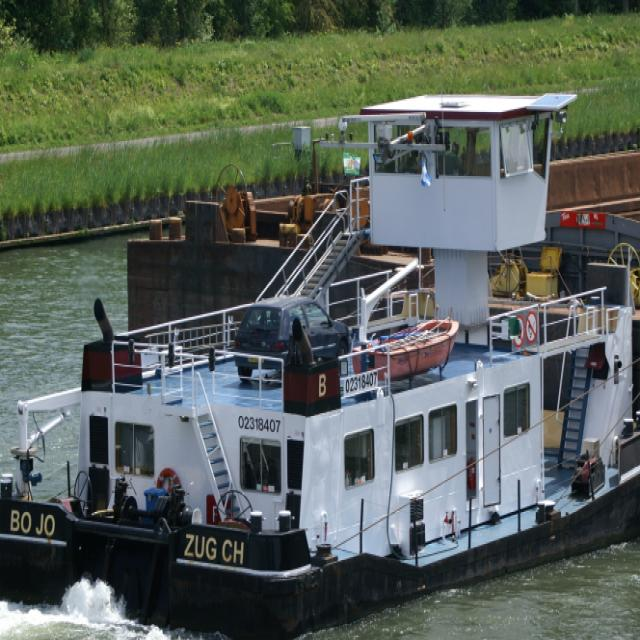tugboat: (1, 87, 640, 640)
